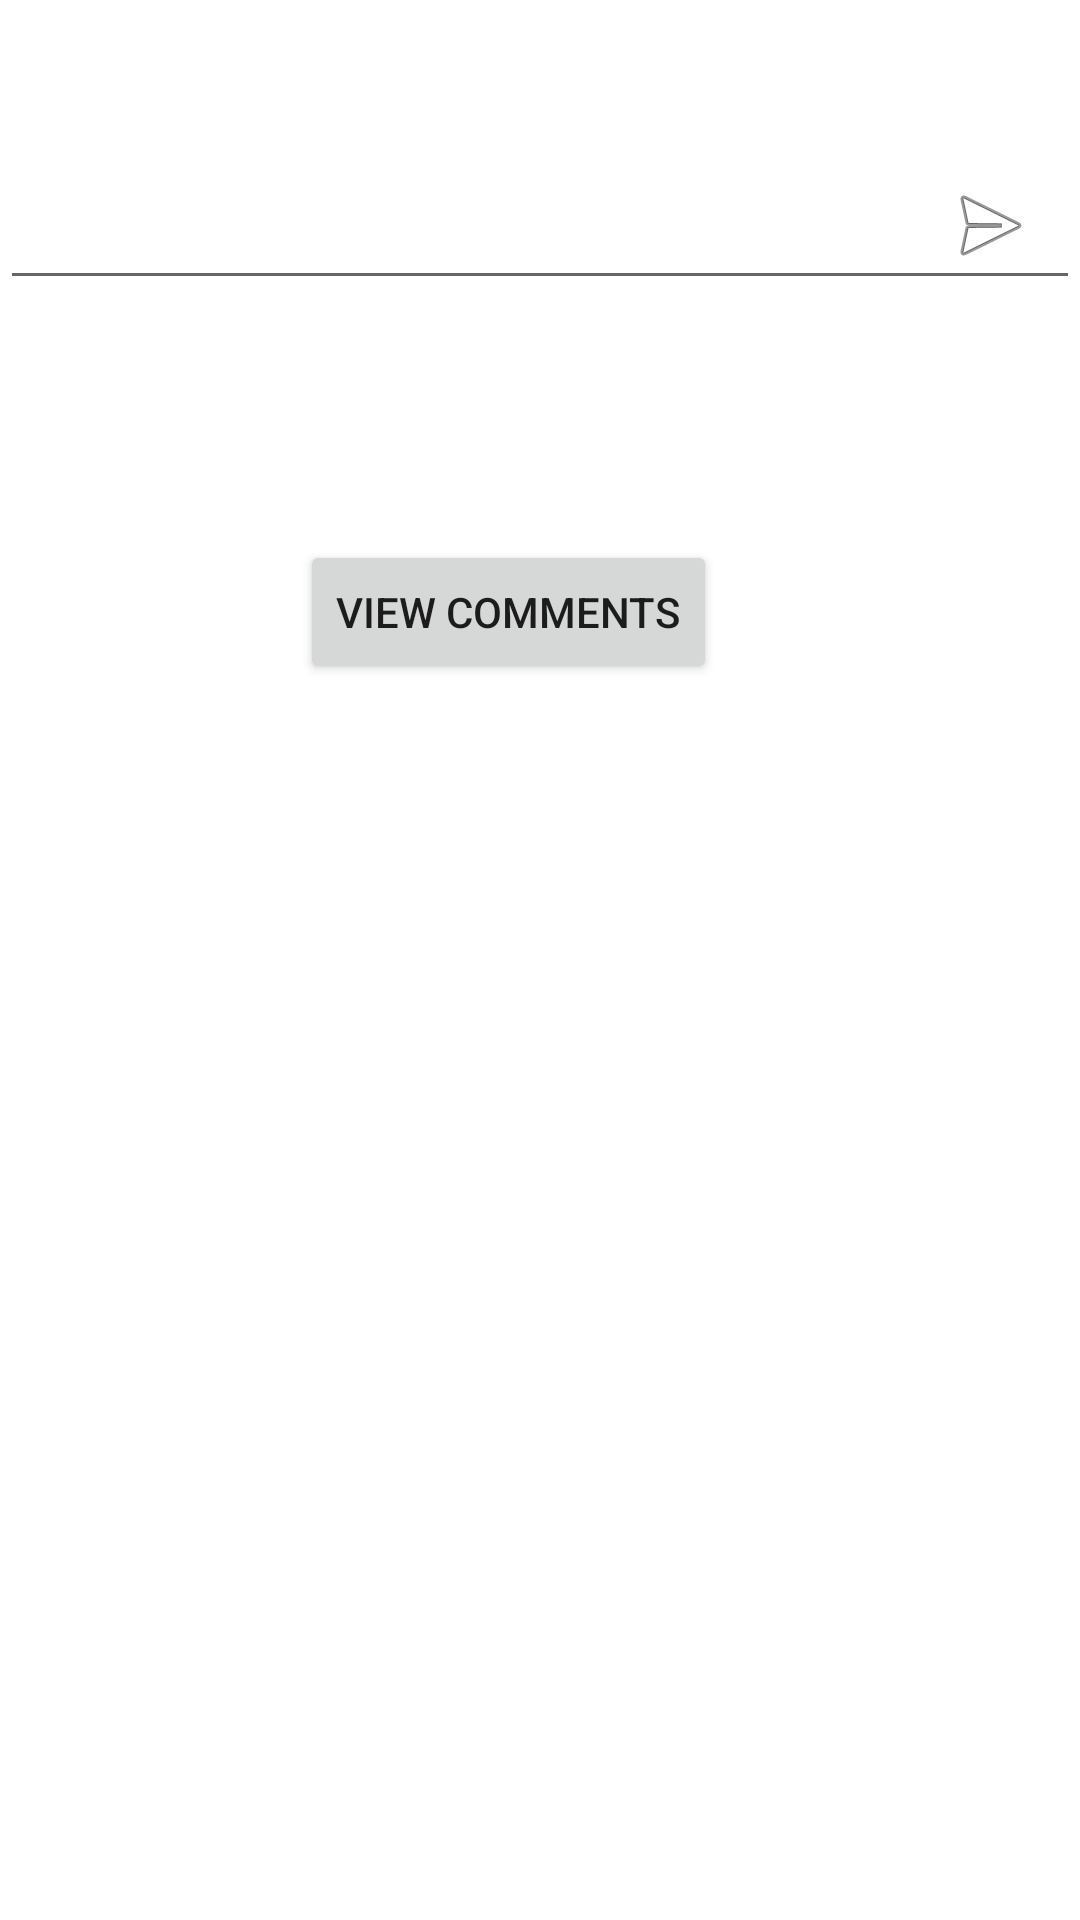

Named icons in this screenshot (1080px x 1920px) and their bounding boxes, (x1, y1, x2, y2):
send: (960, 195, 1022, 256)
